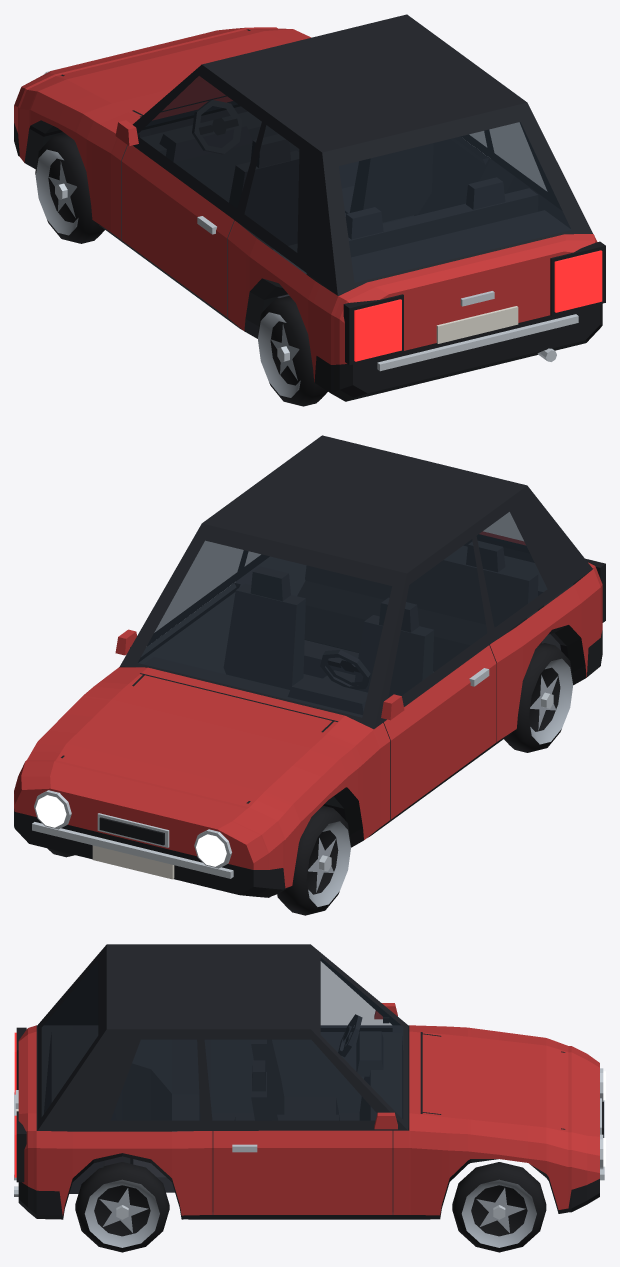
File: compact.glb
3 renders of one model, top to bottom at view 1: azimuth 30°, elevation 25°; view 2: azimuth 150°, elevation 25°; view 3: azimuth 270°, elevation 25°, orthographic. The views are drawn at different scales.
Parts seen in each view (by area): view 1: Body, DoorL, Wheel_FL, Wheel_RL; view 2: Body, DoorL, Wheel_FL, Wheel_RL, DoorR; view 3: Body, DoorR, Wheel_FR, Wheel_RR, DoorL.
Boxes of the visible parts, x1,y1,x2,y2 form: Body: [14, 14, 605, 401]; DoorL: [115, 68, 264, 317]; Wheel_FL: [35, 133, 104, 243]; Wheel_RL: [257, 296, 327, 406]; Body: [14, 435, 605, 897]; DoorL: [381, 527, 496, 819]; Wheel_FL: [277, 805, 351, 915]; Wheel_RL: [504, 643, 573, 752]; DoorR: [115, 541, 243, 662]; Body: [14, 944, 605, 1219]; DoorR: [203, 1029, 397, 1214]; Wheel_FR: [452, 1162, 546, 1252]; Wheel_RR: [75, 1162, 169, 1252]; DoorL: [320, 1003, 397, 1031].
Bounding box in the file's own units: 1.73 × 1.5 × 3.77.
